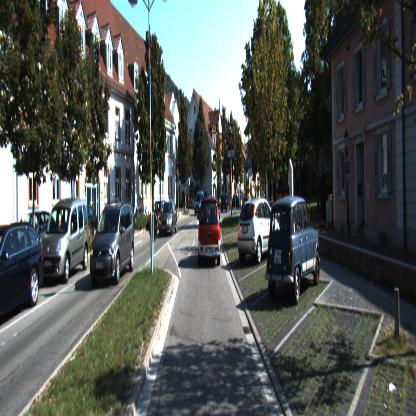car: (266, 197, 322, 305), (2, 224, 45, 336), (41, 200, 96, 287), (89, 205, 135, 289), (236, 201, 273, 265)
